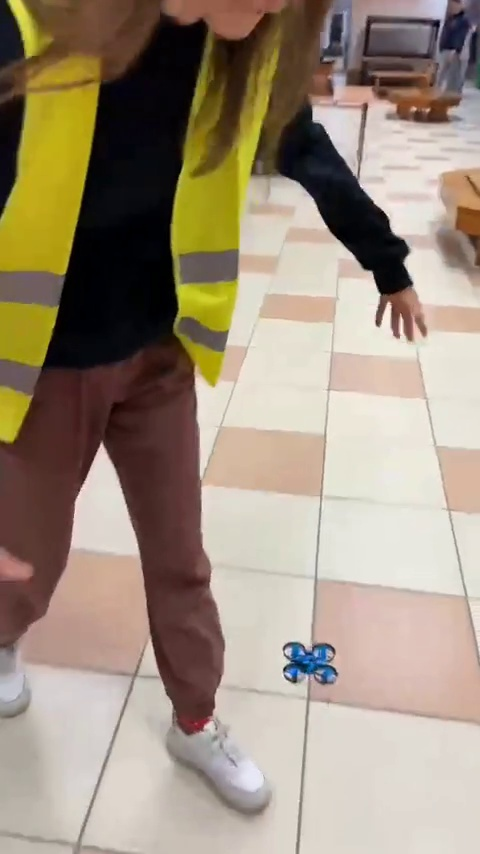drone: (283, 643, 345, 682)
no vest: (437, 1, 473, 95)
vest: (1, 1, 283, 795)
